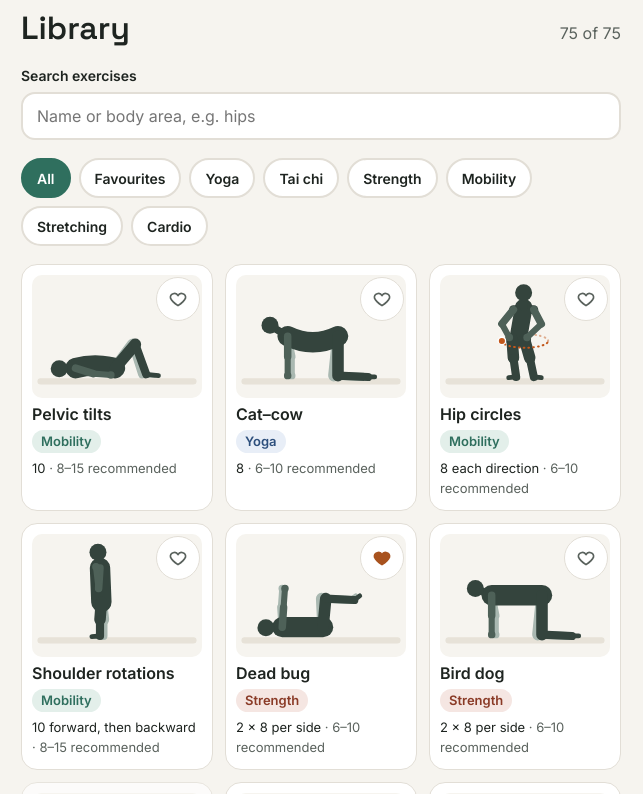
Test case: Library › shows an empty state that clears the search
Type "zzz" into the search field labelled "Search exercises".
click(321, 116); type("zzz")  # box [21,92,621,140]
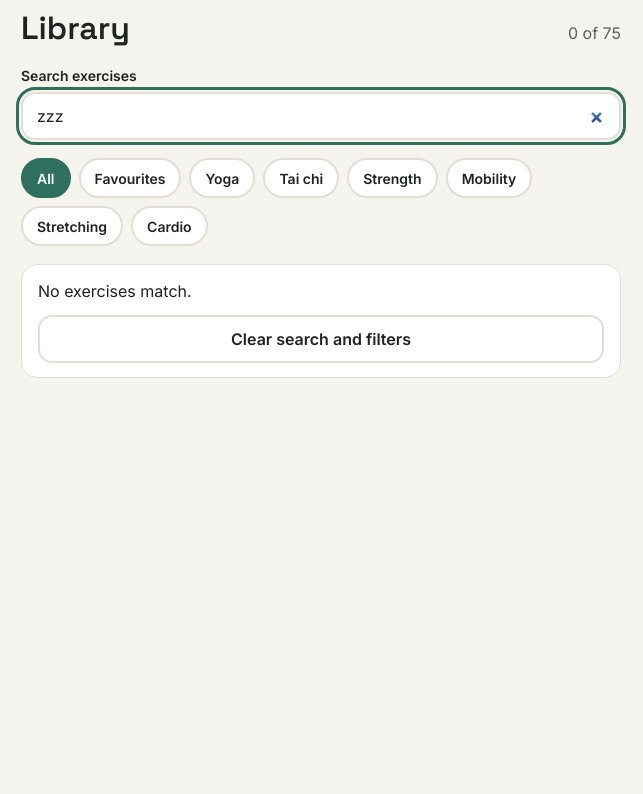
Result: the text "No exercises match." is shown at [38,281,192,301]
Click the button "Clear search and filters".
click(321, 339)  # box [38,315,604,363]
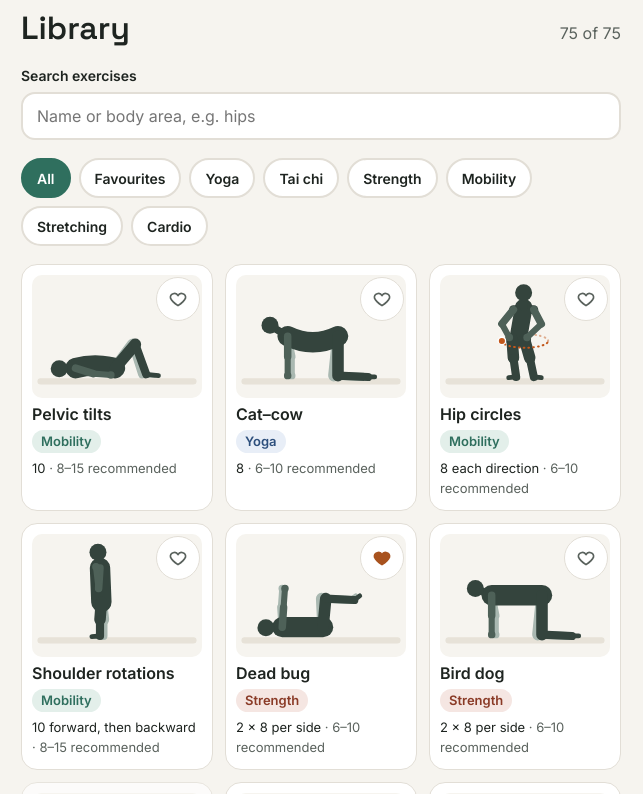
Result: the number of list items is 75
